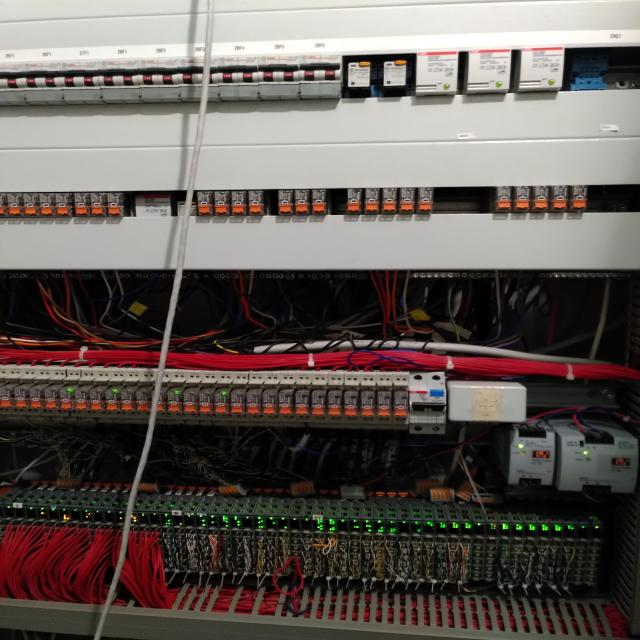Dimmer: (416, 51, 458, 96), (468, 50, 510, 92), (520, 49, 561, 90), (135, 193, 171, 216)
FI_Sicherungskombi: (404, 373, 448, 434)
Leitungsschutzschalter: (176, 43, 225, 103), (296, 41, 344, 100), (256, 40, 304, 99), (97, 46, 145, 104), (216, 42, 262, 100), (138, 44, 182, 104), (59, 48, 106, 104), (24, 48, 68, 106), (0, 48, 30, 106), (377, 55, 414, 96), (342, 55, 376, 97)
Relais: (551, 185, 571, 211), (494, 186, 514, 212), (532, 186, 552, 212), (39, 193, 60, 217), (122, 386, 142, 411), (106, 193, 126, 217), (73, 192, 92, 217), (513, 186, 532, 211), (248, 190, 266, 216), (310, 390, 328, 416), (196, 192, 215, 216), (398, 188, 417, 212), (364, 188, 382, 213), (381, 188, 399, 213), (346, 188, 363, 214), (213, 388, 230, 414), (246, 389, 264, 413), (417, 188, 435, 212), (90, 192, 108, 216), (570, 186, 588, 210), (6, 193, 24, 217), (12, 385, 30, 409), (294, 390, 311, 415), (311, 189, 328, 214), (343, 391, 360, 416), (326, 391, 343, 416), (377, 390, 393, 416), (43, 384, 59, 410), (360, 390, 376, 416), (213, 191, 230, 215), (294, 190, 311, 214), (230, 191, 247, 215), (167, 388, 184, 412), (263, 388, 278, 415), (278, 190, 294, 215), (278, 389, 294, 414), (393, 391, 409, 416), (56, 192, 72, 217), (105, 386, 121, 411), (183, 388, 199, 413), (22, 194, 40, 216), (230, 388, 245, 414), (28, 384, 44, 408), (58, 386, 74, 409), (176, 200, 197, 217), (88, 387, 104, 409), (136, 389, 152, 411), (200, 389, 213, 413), (74, 388, 89, 408), (0, 385, 13, 408)
Schaltkasten: (0, 7, 635, 617)
